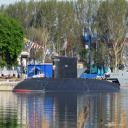submarine: (13, 56, 125, 94)
